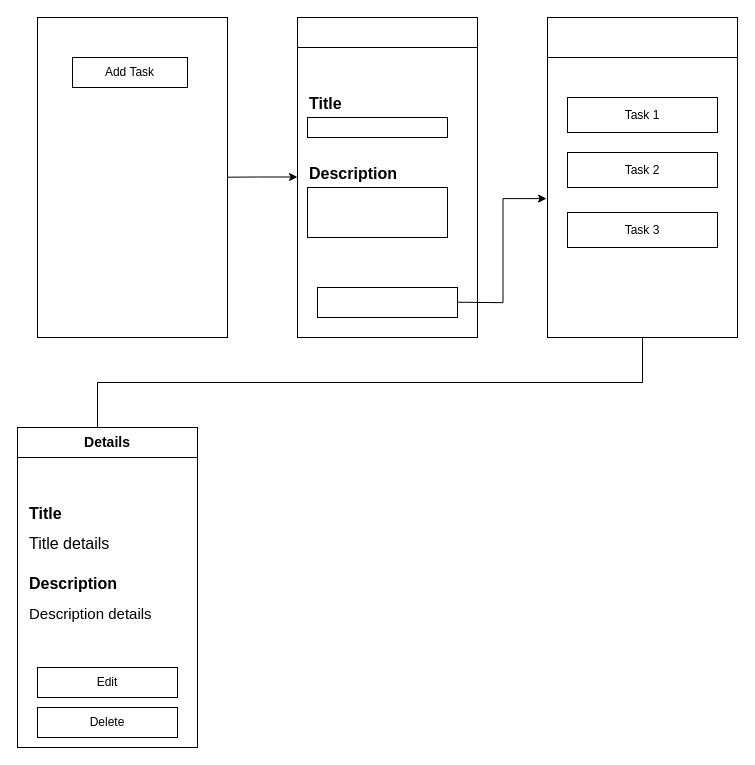
Some shapes in this 755 by 765 pixel diagram are drawn without their labels. The centre of each missing label's shape, as x and y in pixels:
"Add your task" belongs at point (387, 32).
"Save" belongs at point (387, 302).
"Task List" belongs at point (642, 37).
